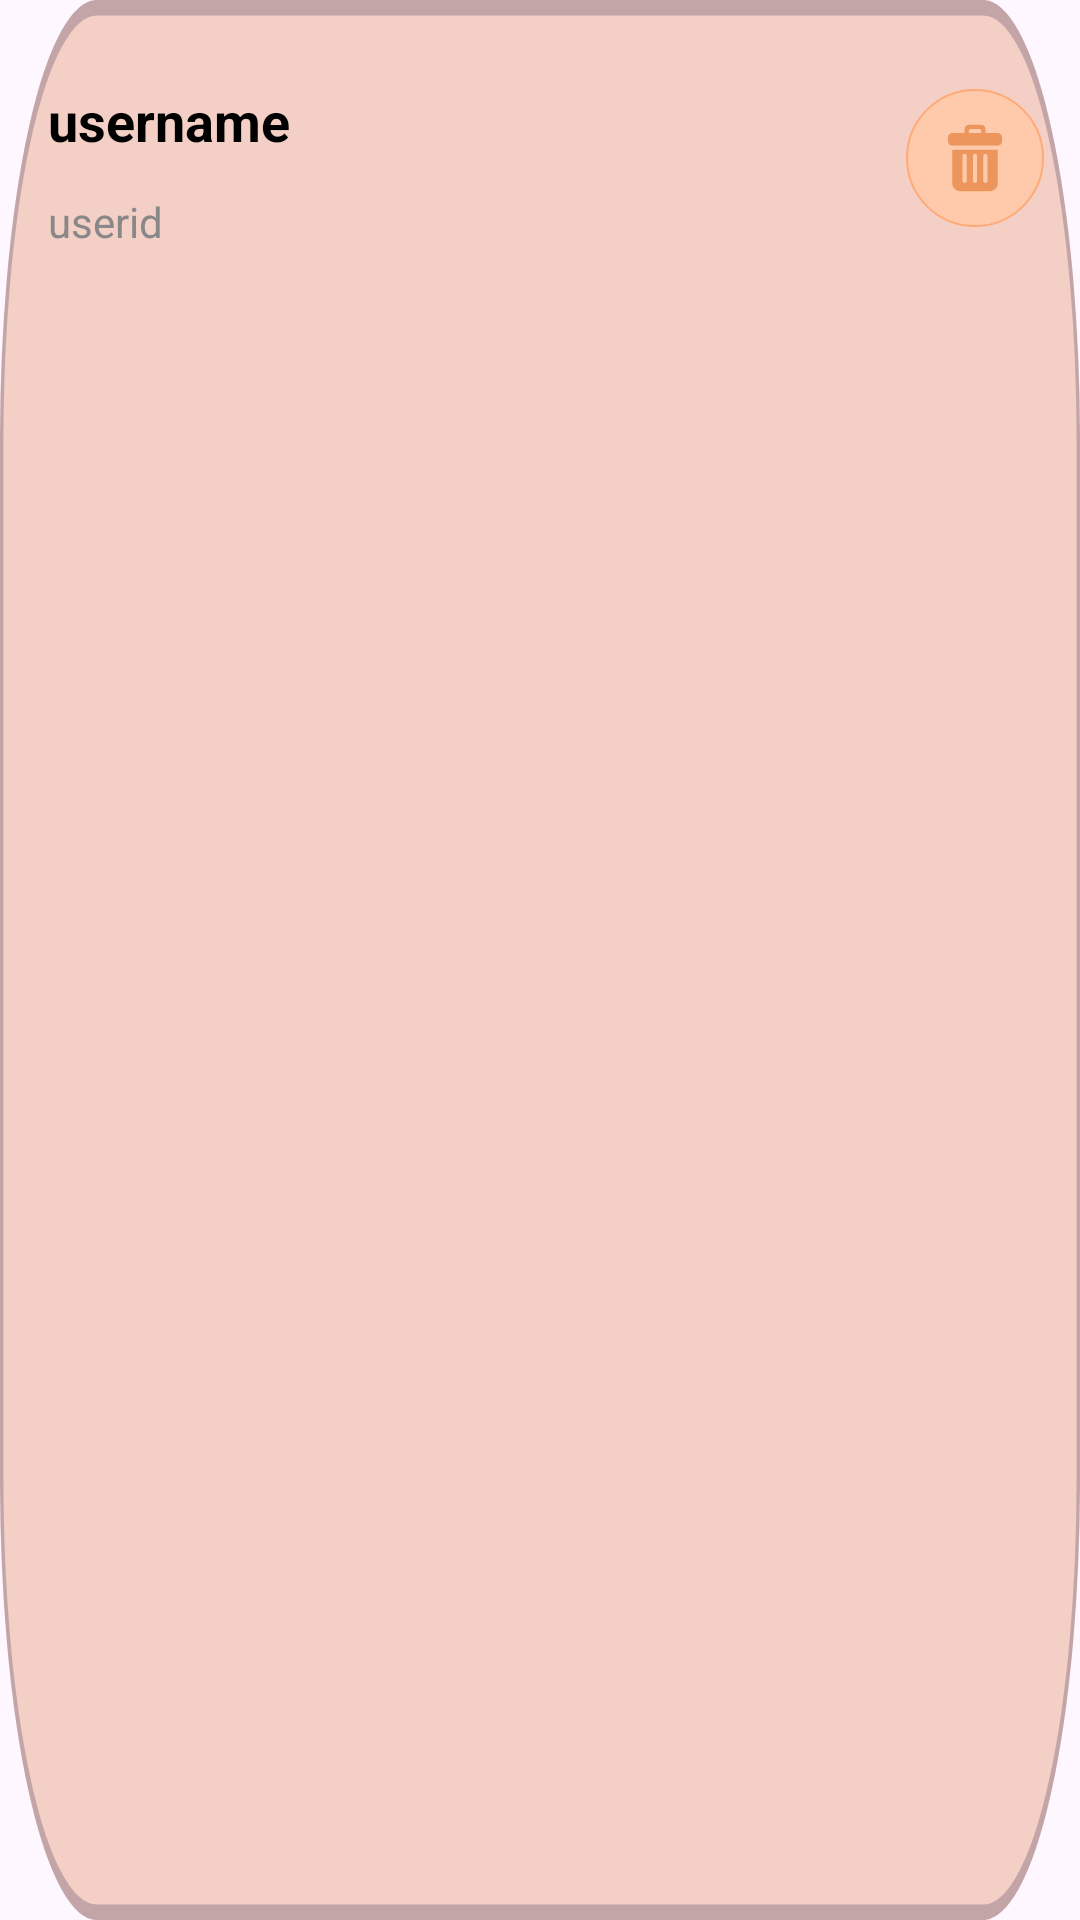

Icon click points for this 1080w x 1920h phone screenshot, format point (x, y):
delete user: point (975, 158)
